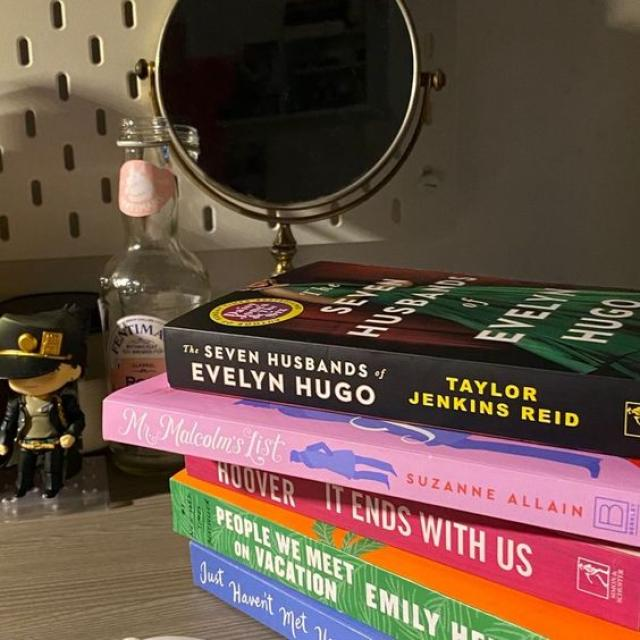book: (185, 455, 640, 631), (102, 400, 640, 546), (164, 327, 640, 459), (170, 477, 548, 640), (190, 541, 370, 640)
